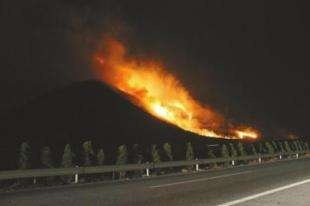fire: (90, 38, 264, 146)
